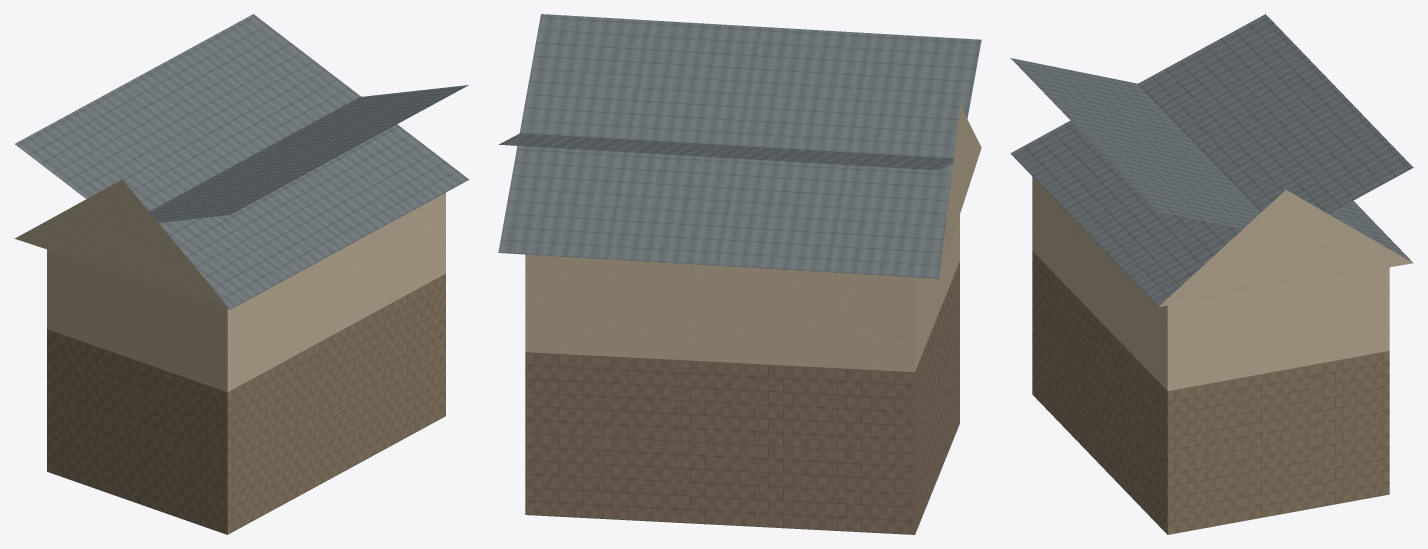
File: bld_c13_7_549.gltf
3 views of the same model, side by side, from view 1: azimuth 30°, elevation 25°; view 2: azimuth 150°, elevation 25°; view 3: azimuth 270°, elevation 25° (orthographic). The views are drawn at different scales.
Visible parts, largest first — view 1: bld_c13_7_549; view 2: bld_c13_7_549; view 3: bld_c13_7_549.
Boxes of the visible parts, left/top/right/bottom form: bld_c13_7_549: left=15, top=14, right=469, bottom=534; bld_c13_7_549: left=498, top=14, right=981, bottom=534; bld_c13_7_549: left=1010, top=14, right=1413, bottom=534.
Size of the model in its own units: 13.76 by 10.8 by 11.87.
4 materials, 4 textured.
